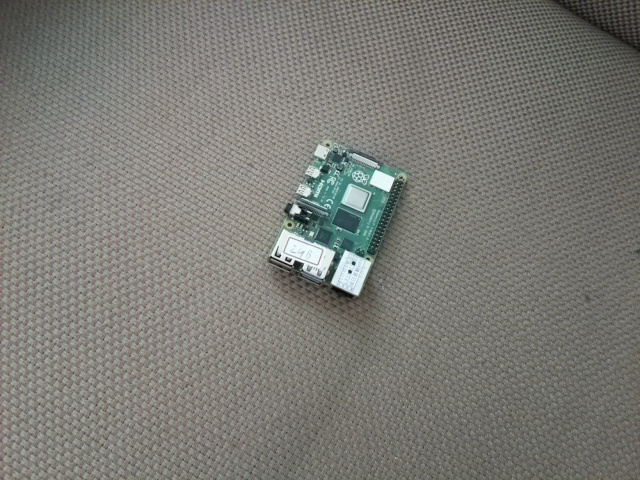Pi4: (260, 132, 410, 310)
